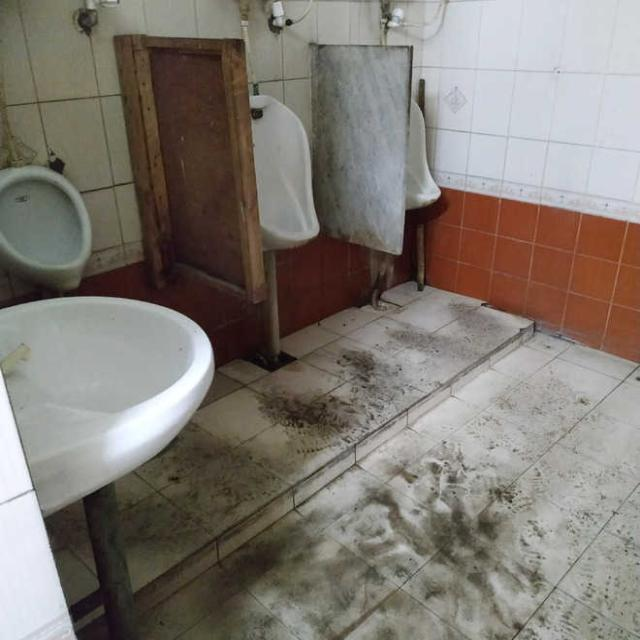dirty_floor: (1, 0, 638, 365), (47, 279, 638, 637)
